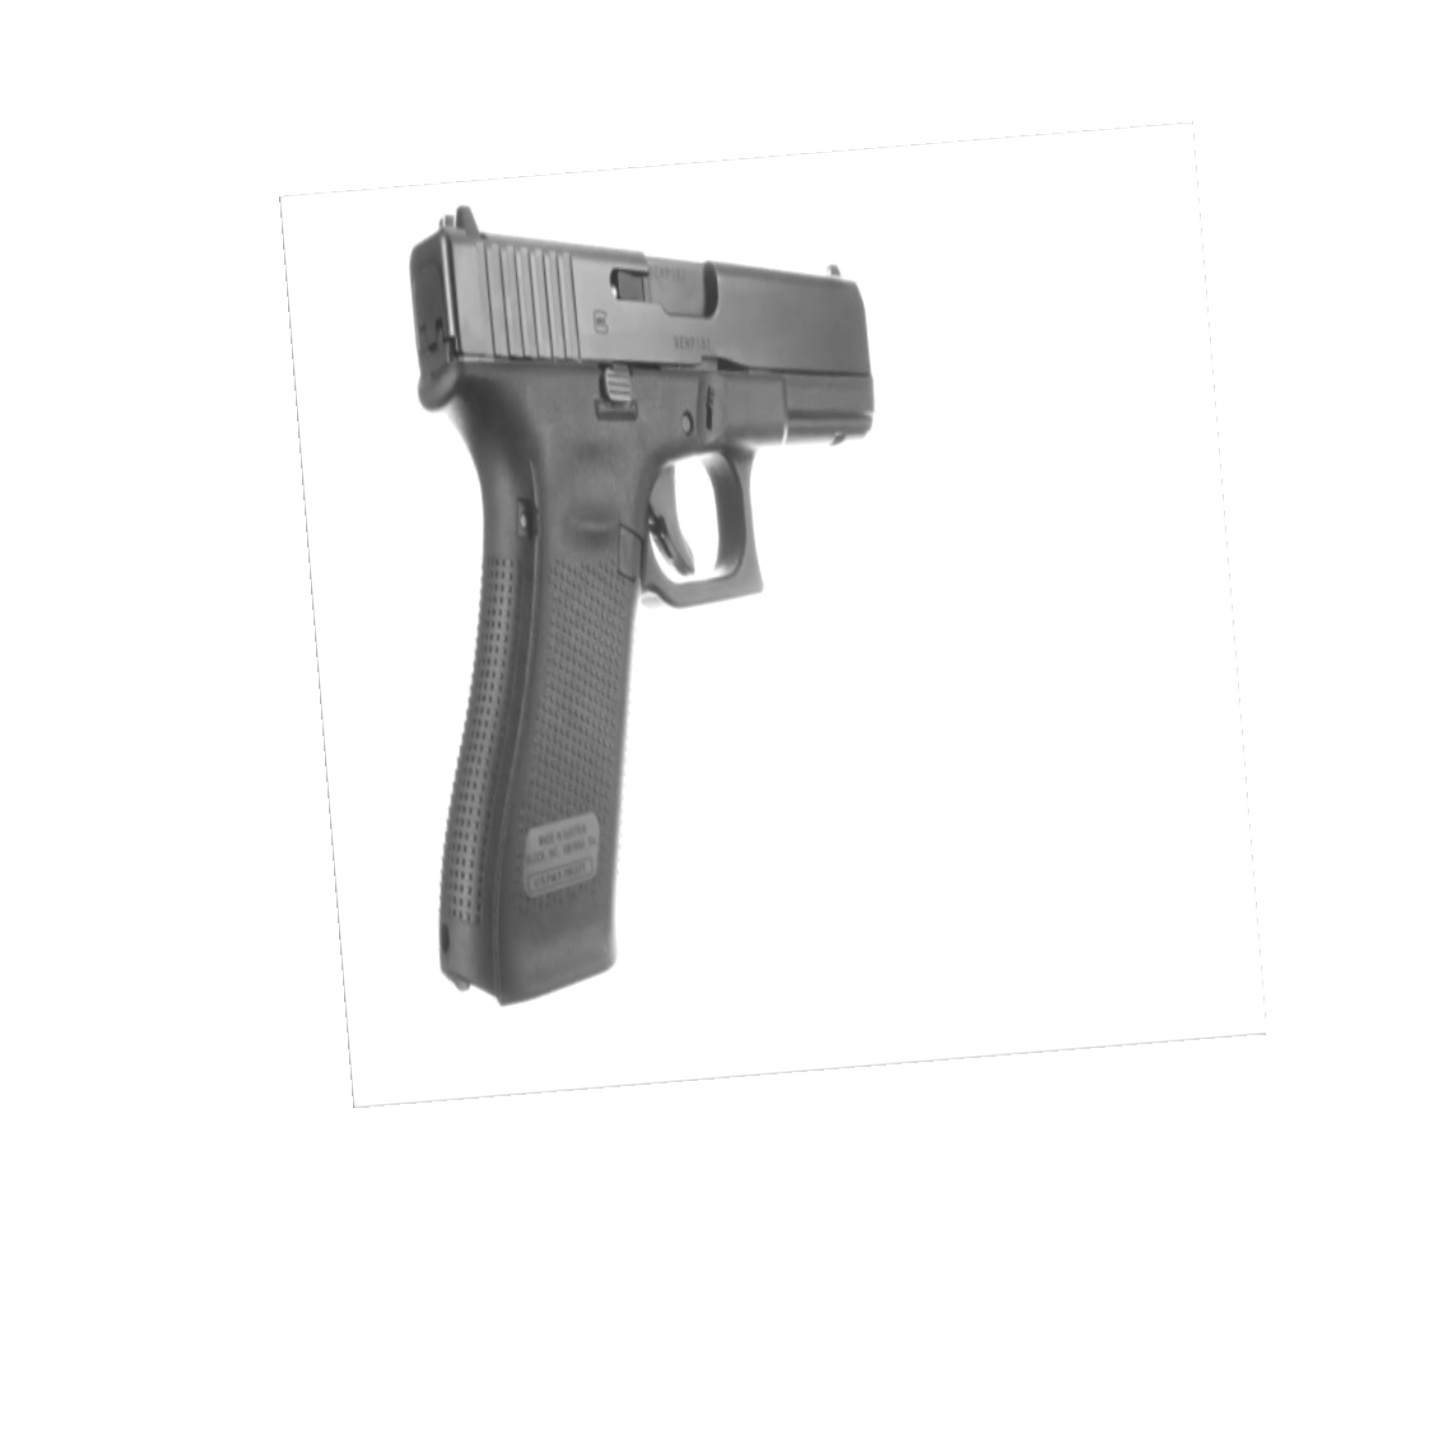gun: (400, 203, 880, 997)
